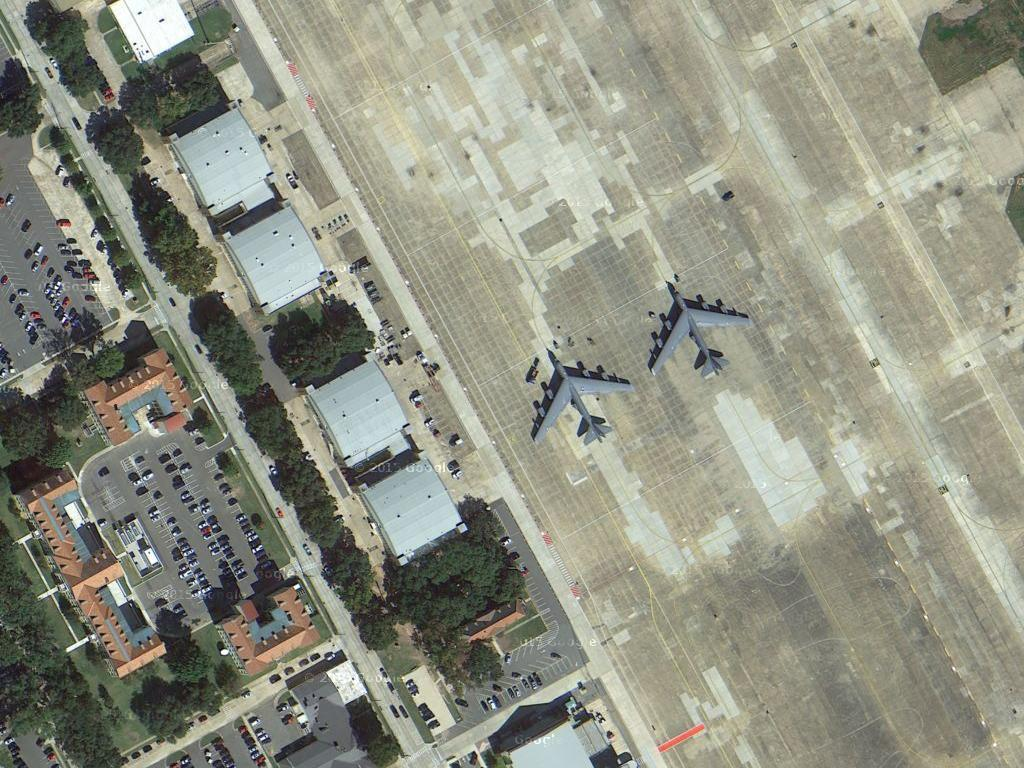B-52: (529, 349, 639, 449), (643, 287, 755, 381)
